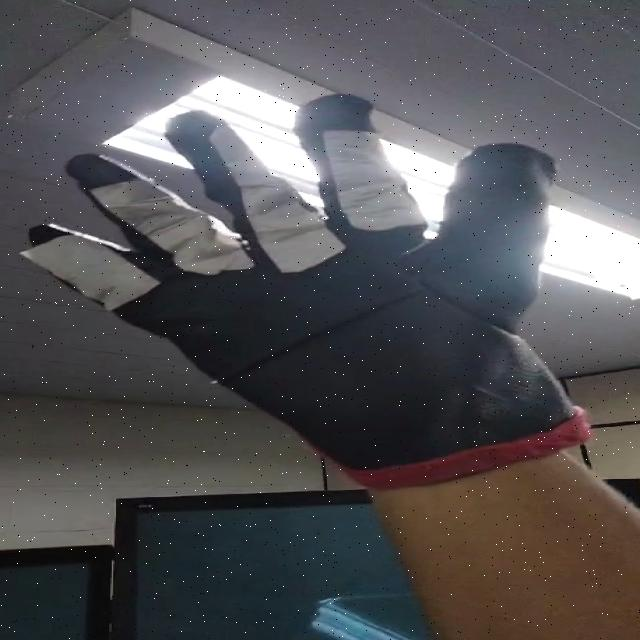Gloves: (38, 90, 586, 477)
